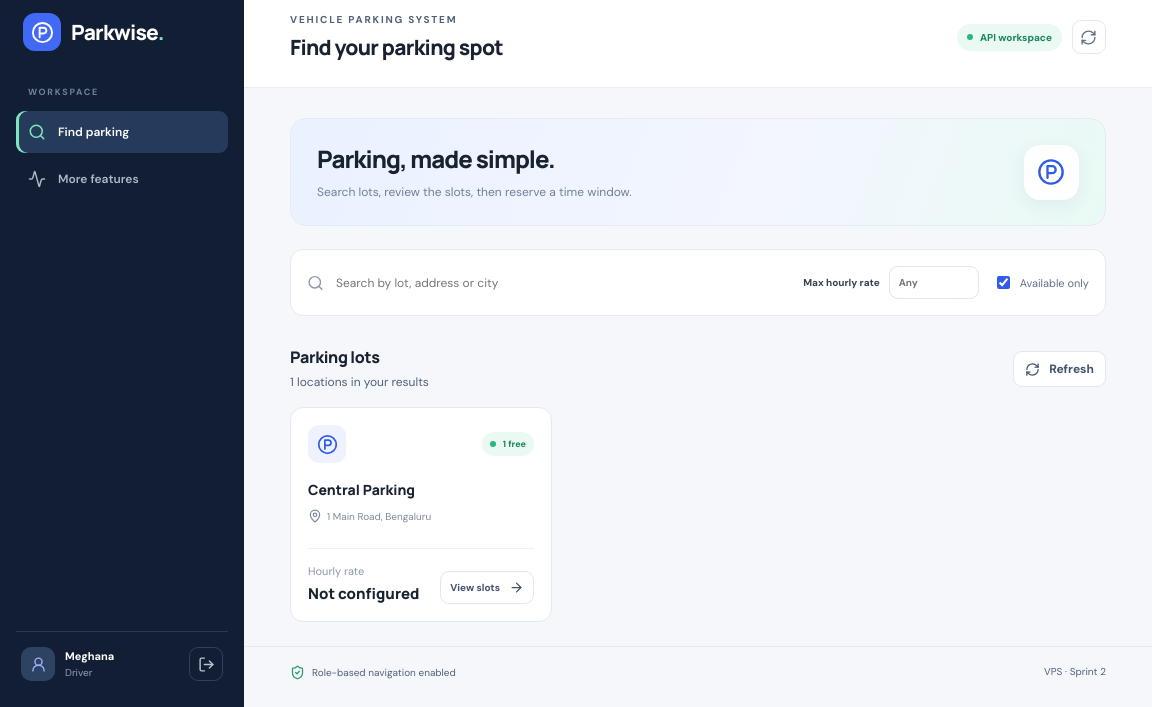
it: Vehicle Parking System frontend › shows available slots and surfaces a reservation conflict
Expected: the heading "Central Parking" is shown, [308, 480, 415, 499]
Click the button "View slots": point(487, 588) [440, 571, 534, 604]
(page scrolled)
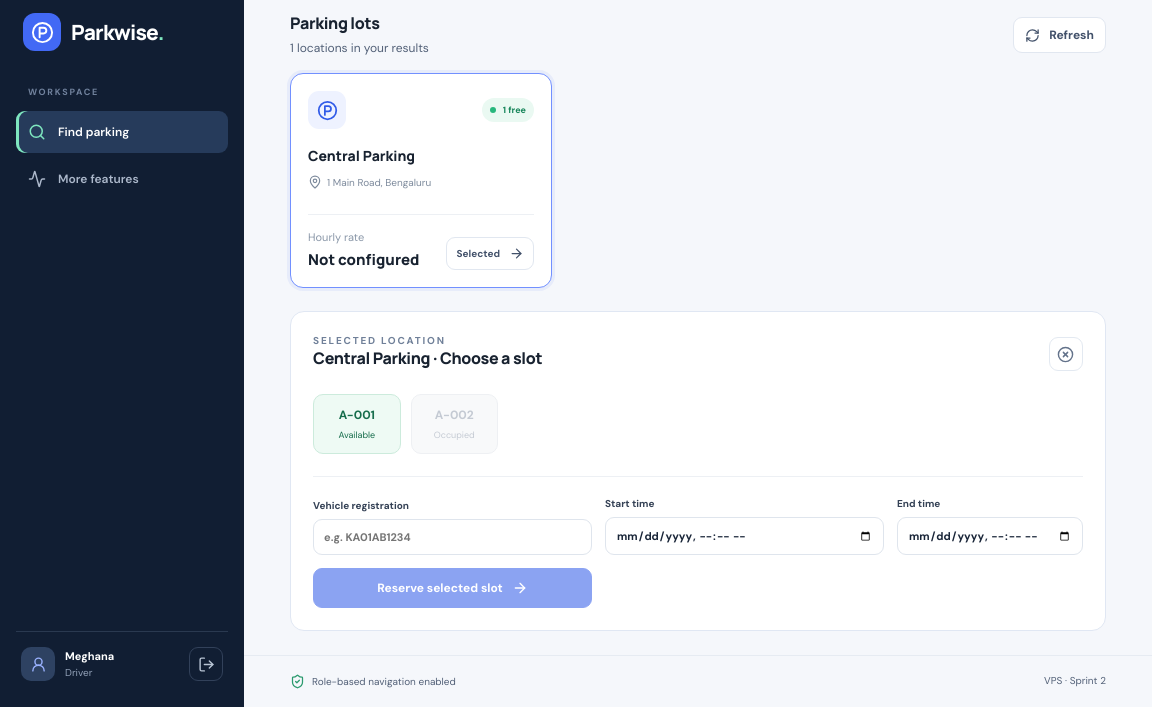
Expected: the button "A-001 available" is shown
Click the button "A-001 available": point(357, 424) [313, 394, 401, 454]
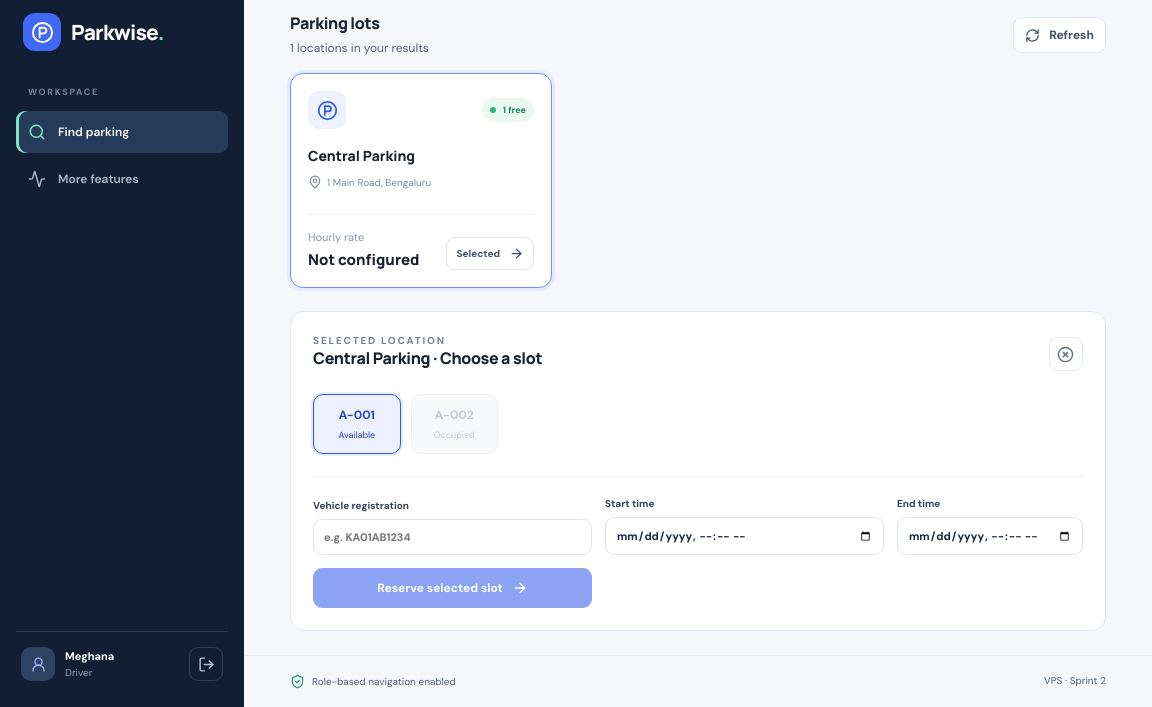
In the field labelled "Vehicle registration": point(453, 537) [313, 519, 592, 555], type "KA01AB1234"
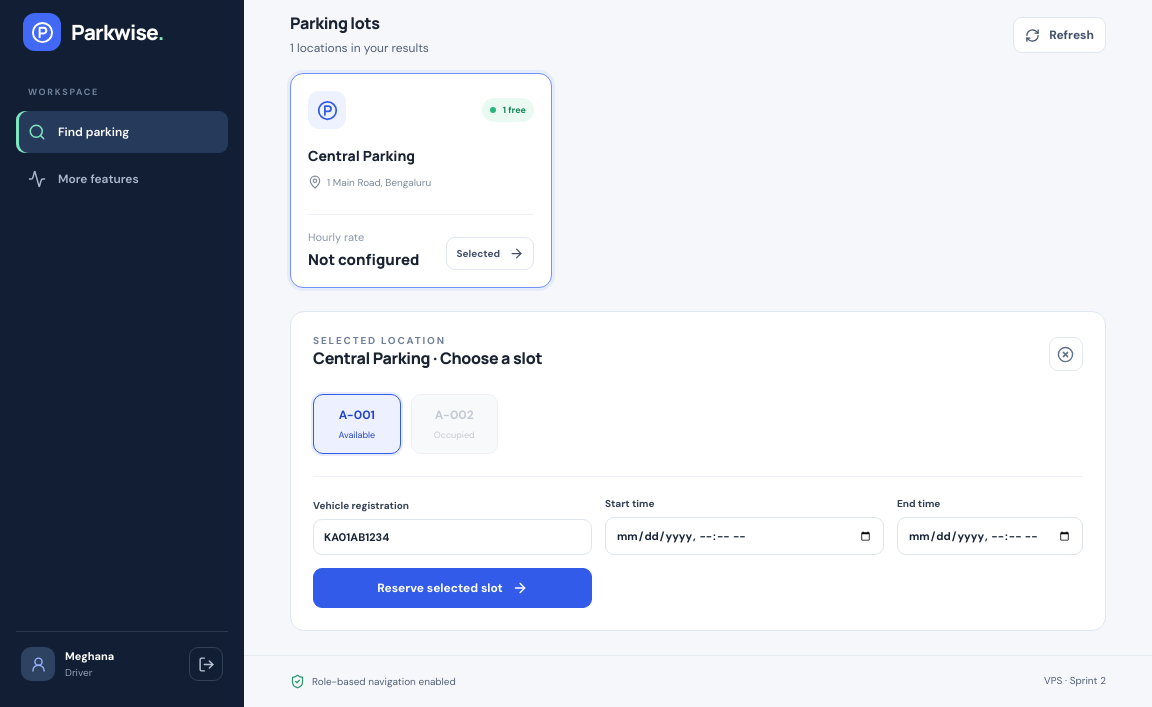
In the field named "reservation start time": point(744, 536) [605, 517, 884, 555], type "2026-11-04T10:00"
(page scrolled)
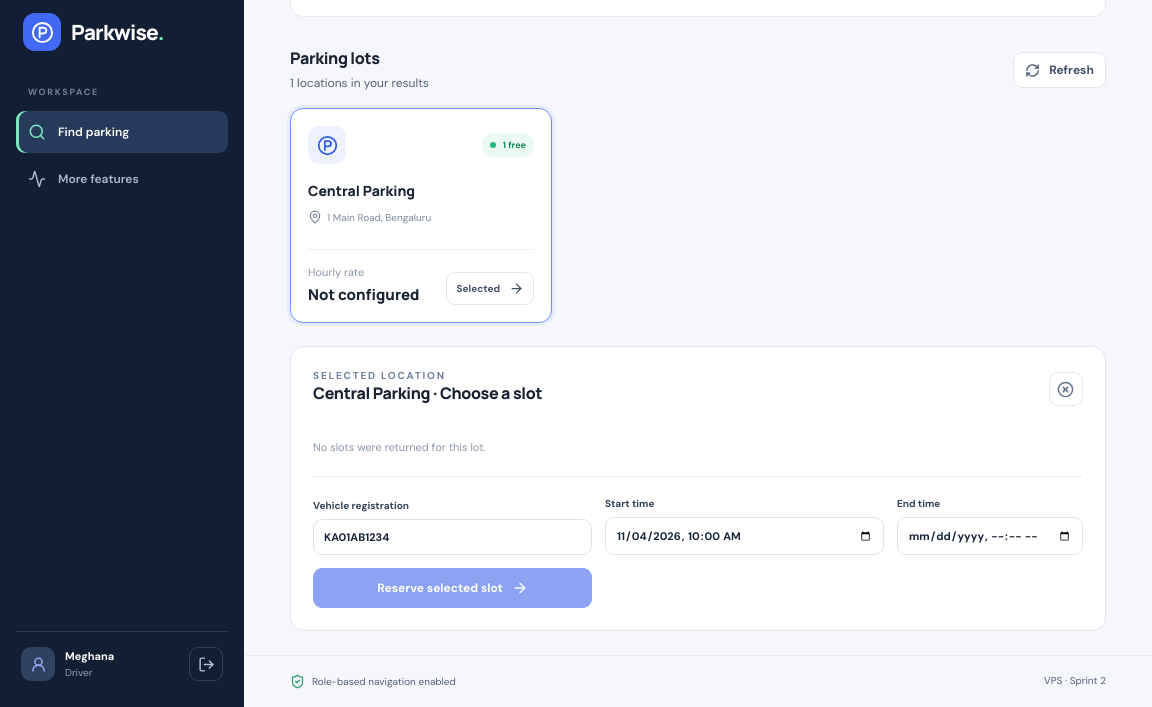
In the field named "reservation end time": point(990, 536) [897, 517, 1083, 555], type "2026-11-04T11:00"
(page scrolled)
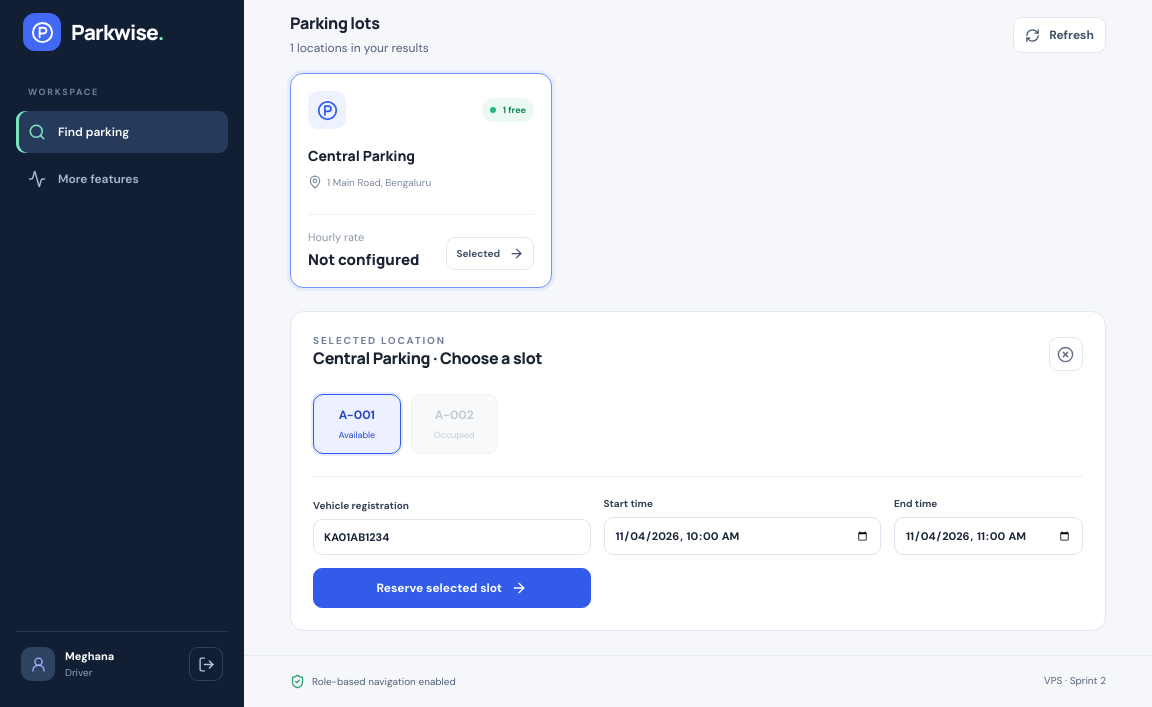
Expected: the button "Reserve selected slot" is enabled
Click the button "Reserve selected slot": point(452, 588) [313, 568, 590, 608]
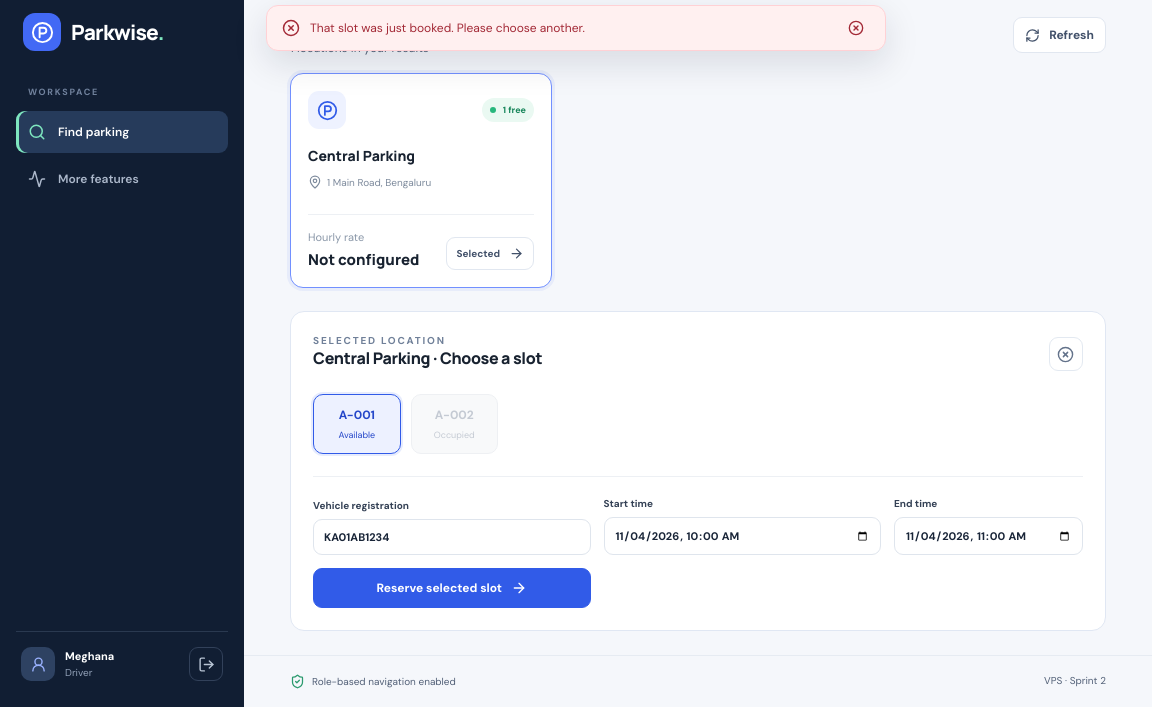
Expected: the message shows "slot was just booked", [310, 20, 585, 36]
